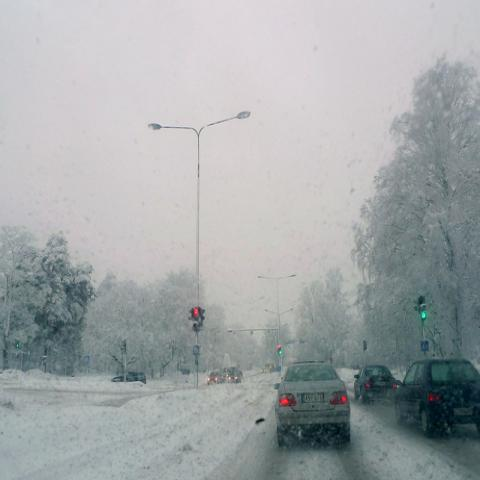car: (275, 359, 352, 448), (398, 359, 480, 433), (354, 364, 402, 406), (111, 371, 147, 384), (208, 370, 225, 388), (228, 370, 243, 383)
